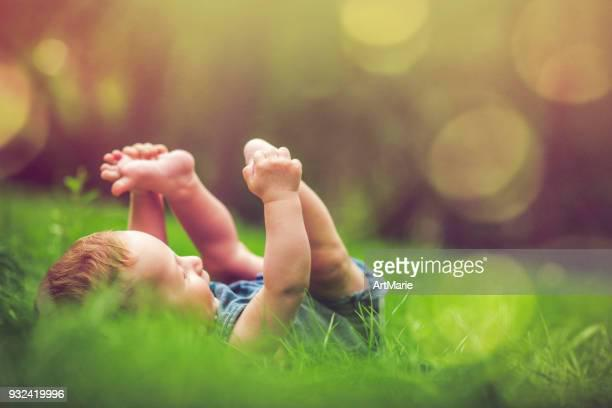child: (37, 127, 415, 375)
